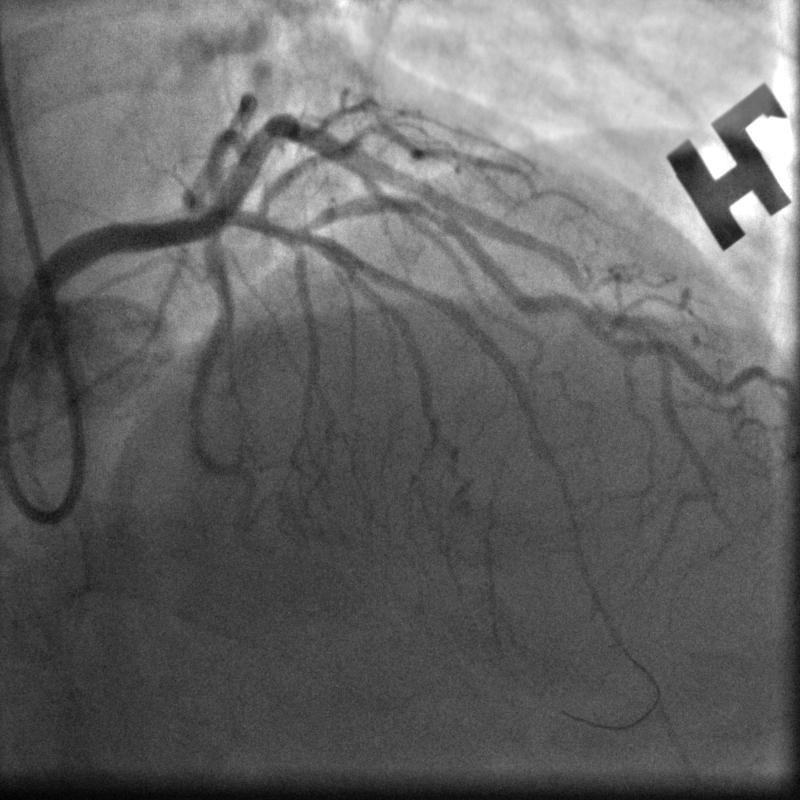Stenosis: (415, 192, 459, 233)
